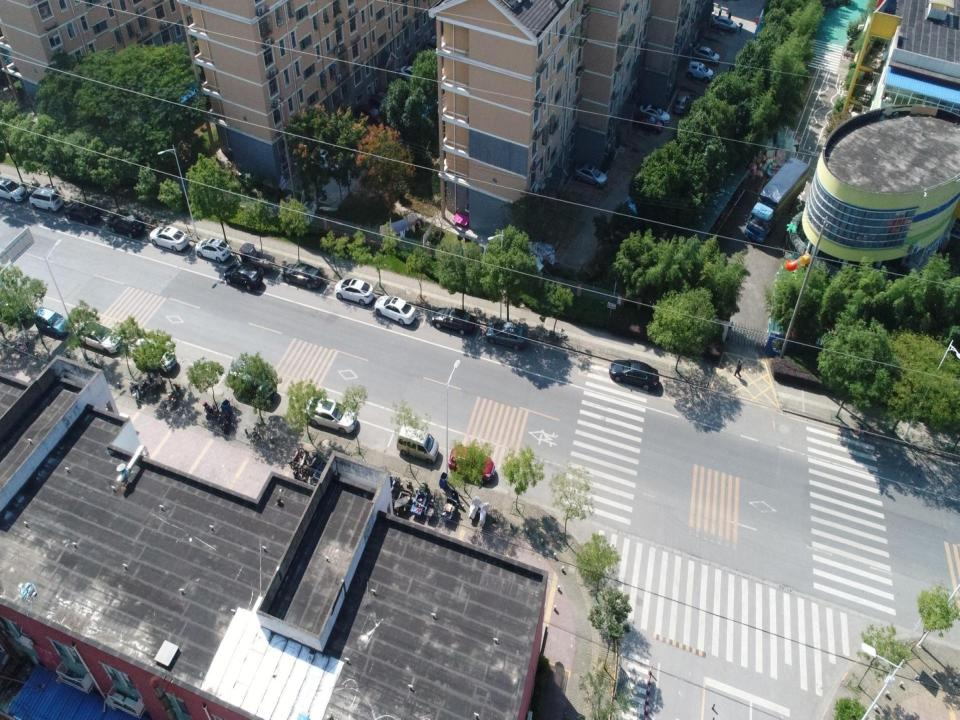car: (228, 359, 278, 405), (304, 396, 357, 435), (448, 444, 495, 485), (74, 320, 122, 355), (131, 338, 177, 373), (609, 359, 659, 391), (432, 306, 478, 337), (484, 320, 528, 351), (374, 294, 416, 326), (281, 261, 324, 291), (224, 261, 264, 292), (106, 210, 146, 240), (33, 307, 70, 339), (334, 278, 375, 306), (150, 225, 191, 253), (310, 144, 344, 174), (65, 198, 101, 226), (194, 237, 232, 263), (573, 161, 608, 188), (638, 103, 670, 129), (0, 177, 29, 204), (686, 57, 714, 84), (357, 103, 384, 129), (634, 112, 664, 134), (693, 42, 720, 65), (710, 15, 738, 33), (369, 93, 391, 114), (672, 92, 691, 115), (397, 65, 422, 80)
truck: (744, 157, 812, 246), (239, 242, 275, 275)
van: (396, 424, 440, 464), (29, 185, 64, 212)
